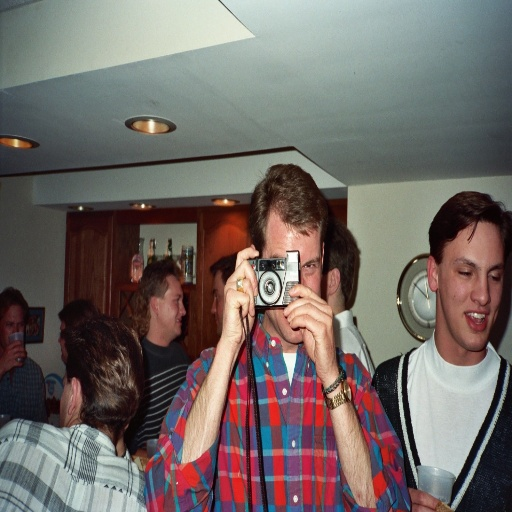hand: (280, 280, 338, 380), (221, 273, 258, 346), (0, 339, 27, 374), (406, 485, 442, 511)
